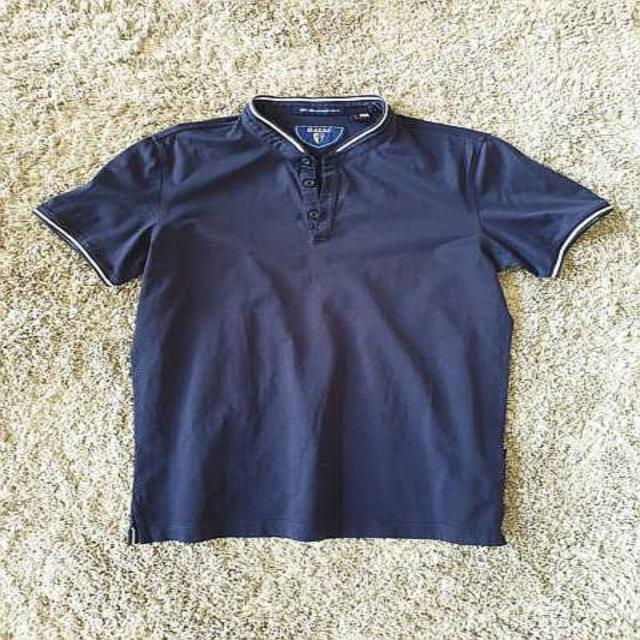T_SHIRT: (14, 79, 627, 548)
